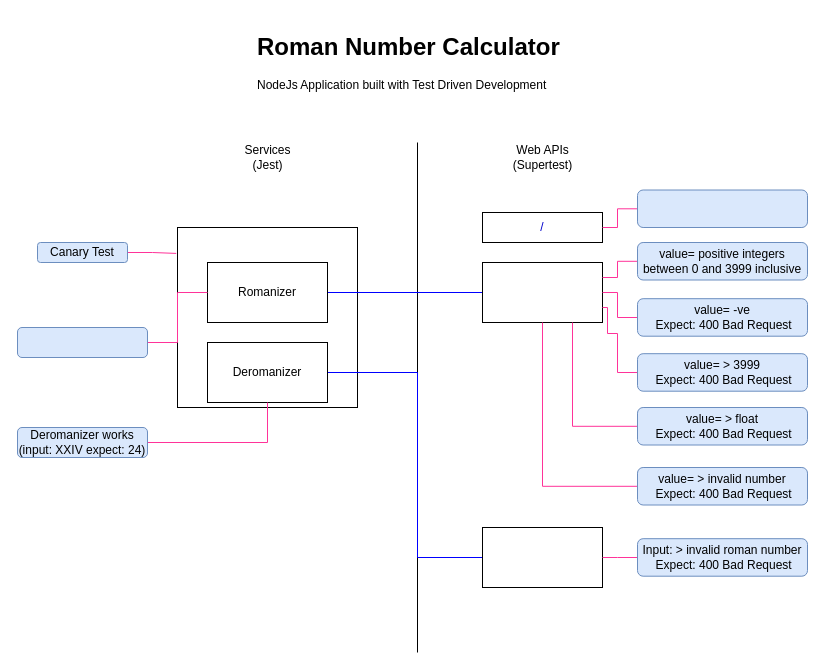
Some shapes in this 825 by 671 pixel diagram are drawn without their labels. The shapes that lost their labels are listed below. From the top down, each one's box as (x1, y1, x2, y2) in pixels, then its label:
(636, 189, 808, 228): should return a 200 response with header type as JSON
(482, 262, 602, 322): /to-roman?value=
(176, 226, 358, 408): Converter Service
(16, 326, 148, 358): Romanizer works (input: 24 expect: XXIV)
(482, 526, 602, 588): /to-number?value=
